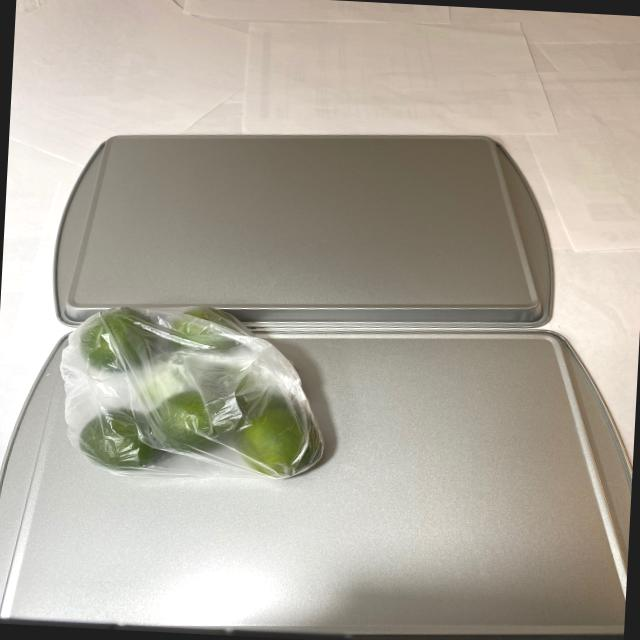lemon: (70, 302, 328, 478)
